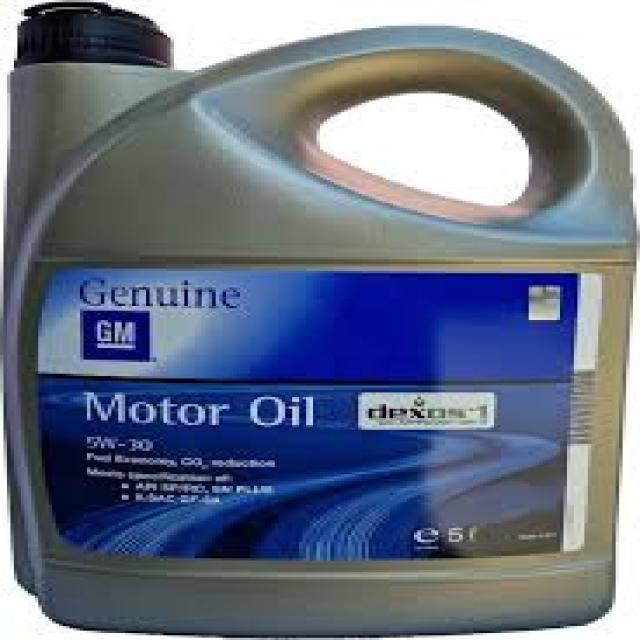motor_oil: (0, 2, 633, 640)
